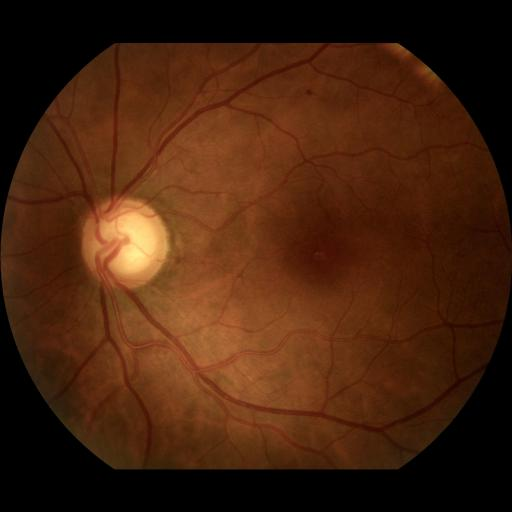Optic Cup: (100, 211, 156, 274)
Optic Disc: (81, 196, 169, 288)
